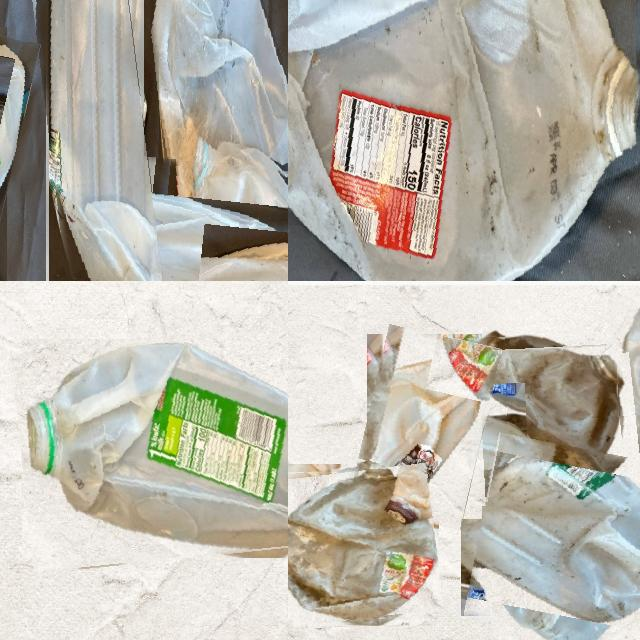milk-jug: (288, 0, 640, 281), (16, 332, 288, 567), (150, 0, 288, 281), (472, 440, 640, 640), (38, 0, 156, 281), (451, 333, 622, 505), (358, 328, 492, 524), (288, 463, 439, 627), (94, 159, 288, 281), (612, 290, 640, 487)
